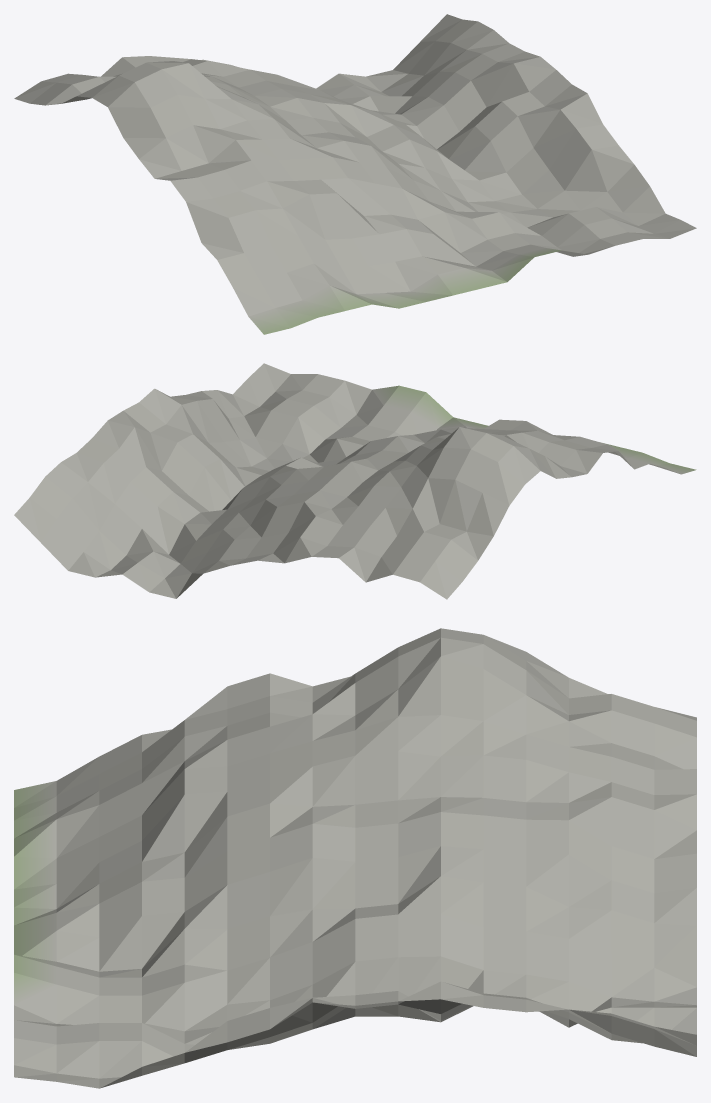
3 views of the same model, one above another, from view 1: azimuth 30°, elevation 25°; view 2: azimuth 150°, elevation 25°; view 3: azimuth 270°, elevation 25° (orthographic). The views are drawn at different scales.
Size of the model in its own units: 32 by 11.03 by 32.
